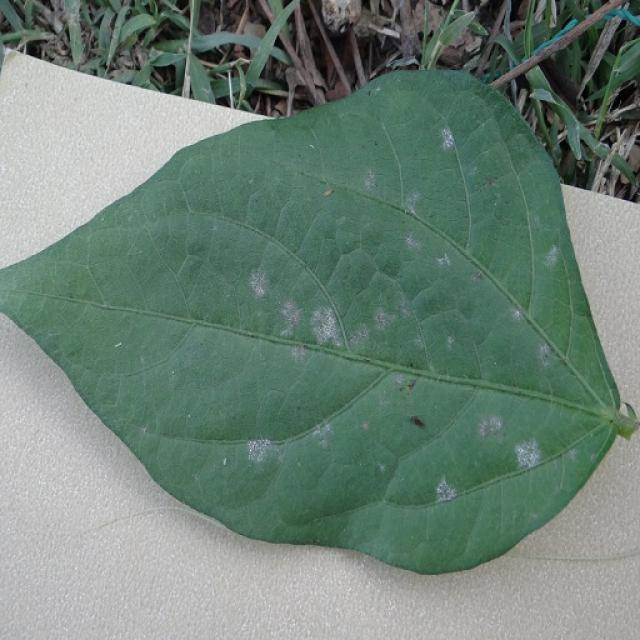Blackgram: (0, 72, 634, 571)
Powdery_Mildew: (309, 306, 341, 348), (515, 438, 542, 468), (247, 438, 276, 463), (477, 414, 503, 439), (435, 477, 458, 503), (312, 422, 334, 449), (249, 269, 268, 297), (279, 299, 299, 324), (373, 307, 393, 332), (349, 324, 369, 348), (404, 190, 421, 213), (393, 374, 412, 393), (440, 127, 455, 148), (545, 245, 559, 266), (405, 233, 422, 249), (290, 344, 306, 361), (363, 171, 377, 190), (538, 342, 550, 362), (436, 254, 450, 266), (511, 307, 522, 320), (568, 448, 578, 461), (376, 462, 386, 474), (472, 271, 483, 281), (447, 335, 455, 347), (140, 425, 148, 434), (222, 457, 227, 466)
